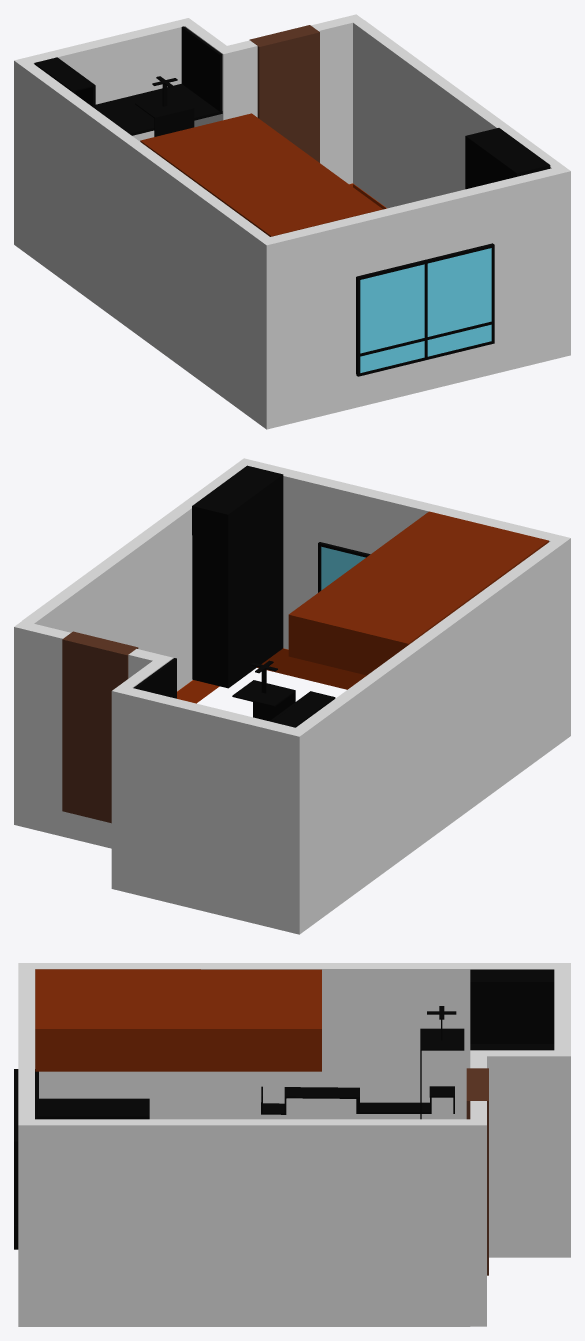
The model's file is Quarto do Tiago.glb.
3 views of the same model, one above another, from view 1: azimuth 30°, elevation 25°; view 2: azimuth 150°, elevation 25°; view 3: azimuth 270°, elevation 25° (orthographic). The views are drawn at different scales.
Parts seen in each view (by area): view 1: Cube.030, Cube.026, Cube.029, Cube.046, Cube.025, Cube.027, Cube.031, Cube.040, Cube.011, Cube.020, Cube.047, Cube.028 (+8 smaller); view 2: Cube.026, Cube.011, Cube.046, Cube.047, Cube.029, Cube.031, Cube.030, Cube.040, Cube.027, Cube.019, Cube.005, Cube.020 (+7 smaller); view 3: Cube.029, Cube.026, Cube.046, Cube.001, Cube.008, Cube.031, Cube.032, Cube.005, Cube.030, Cube.047, Cube.011, Cube.040 (+7 smaller).
Boxes of the visible parts, x1,y1,x2,y2 form: Cube.030: [270, 168, 559, 426]; Cube.026: [59, 91, 269, 423]; Cube.029: [353, 20, 562, 208]; Cube.046: [140, 113, 382, 236]; Cube.025: [360, 248, 491, 372]; Cube.027: [21, 63, 70, 277]; Cube.031: [227, 14, 363, 184]; Cube.040: [249, 25, 319, 162]; Cube.011: [25, 20, 184, 141]; Cube.020: [259, 237, 277, 429]; Cube.047: [465, 128, 550, 189]; Cube.028: [181, 26, 222, 111]; Cube.026: [337, 541, 562, 898]; Cube.011: [124, 688, 295, 931]; Cube.046: [288, 511, 548, 675]; Cube.047: [192, 465, 283, 688]; Cube.029: [22, 464, 245, 691]; Cube.031: [14, 621, 160, 848]; Cube.030: [249, 461, 558, 649]; Cube.040: [62, 631, 138, 823]; Cube.027: [296, 698, 348, 928]; Cube.019: [287, 728, 307, 934]; Cube.005: [111, 685, 131, 891]; Cube.020: [551, 535, 570, 741]; Cube.029: [35, 1119, 470, 1326]; Cube.026: [35, 963, 471, 1119]; Cube.046: [35, 969, 321, 1071]; Cube.001: [470, 1050, 554, 1257]; Cube.008: [470, 980, 554, 1043]; Cube.031: [470, 1056, 486, 1326]; Cube.032: [18, 1119, 34, 1326]; Cube.005: [554, 1050, 570, 1257]; Cube.030: [18, 969, 34, 1119]; Cube.047: [37, 1098, 149, 1119]; Cube.011: [554, 969, 570, 1050]; Cube.040: [466, 1068, 488, 1275].
Bounding box in the file's own units: 29.45 × 17.29 × 42.67.
